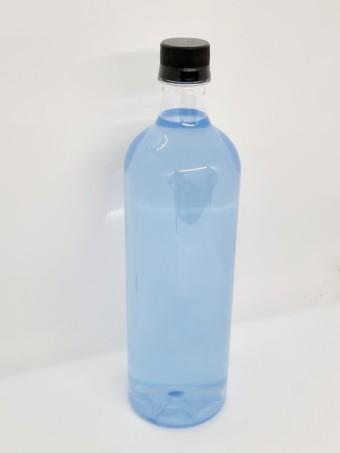bottle: (124, 38, 239, 424)
